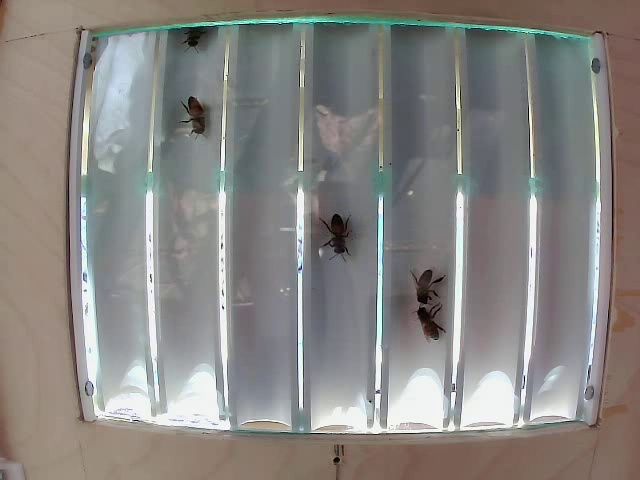bee: (414, 296, 457, 345), (324, 219, 365, 262), (171, 91, 205, 142), (409, 261, 443, 307)
